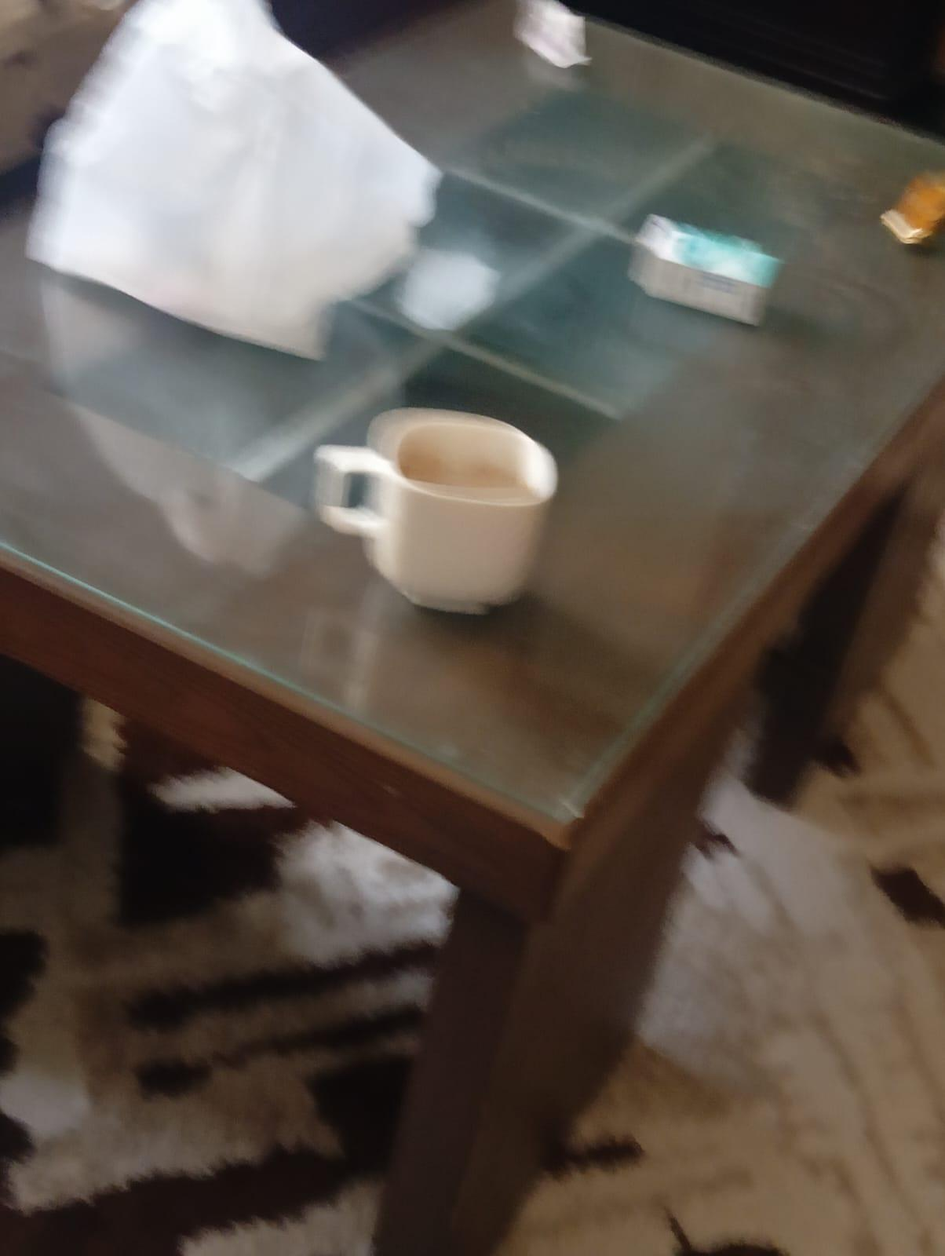cup: (316, 411, 556, 612)
